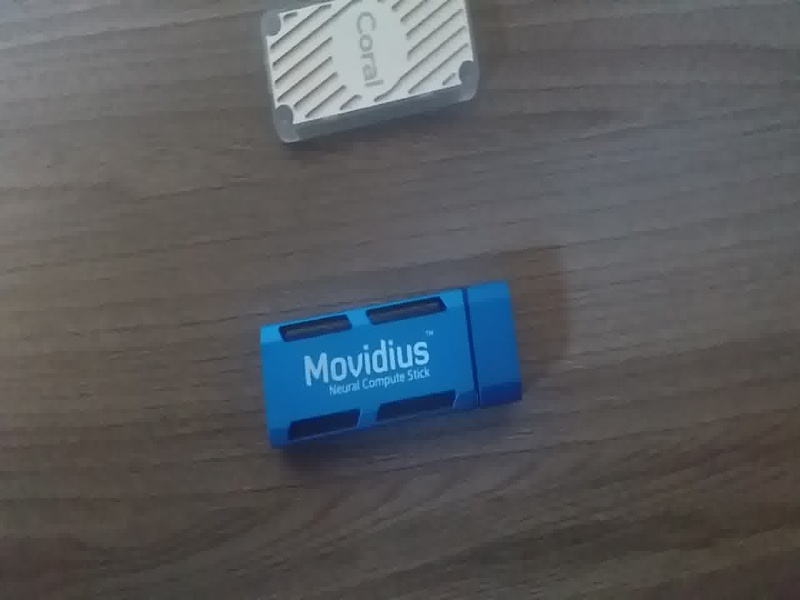coral: (253, 3, 482, 153)
movidius: (247, 277, 540, 456)
